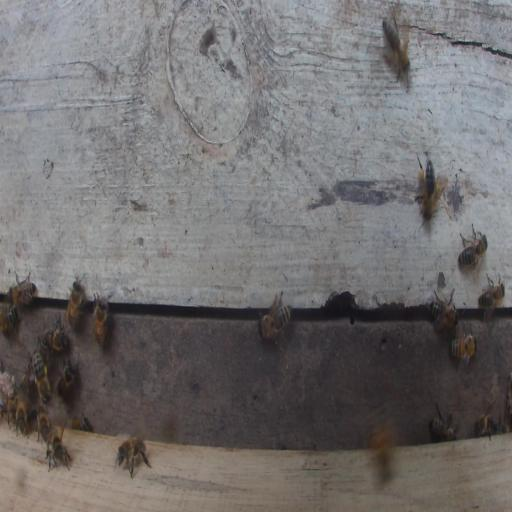bee: (366, 416, 398, 478), (381, 17, 410, 83), (255, 296, 293, 342), (116, 435, 151, 479), (458, 222, 488, 273), (477, 272, 505, 320), (419, 158, 439, 221), (46, 424, 71, 472), (429, 400, 458, 441), (41, 317, 69, 353), (9, 269, 36, 306), (92, 292, 110, 346), (33, 352, 51, 405), (67, 278, 84, 331), (450, 333, 478, 365), (58, 358, 78, 397), (429, 301, 458, 327), (0, 303, 22, 336), (474, 413, 498, 439), (21, 355, 34, 395), (37, 409, 51, 441), (26, 409, 39, 441), (16, 400, 27, 432), (0, 395, 15, 413), (73, 417, 89, 432)
